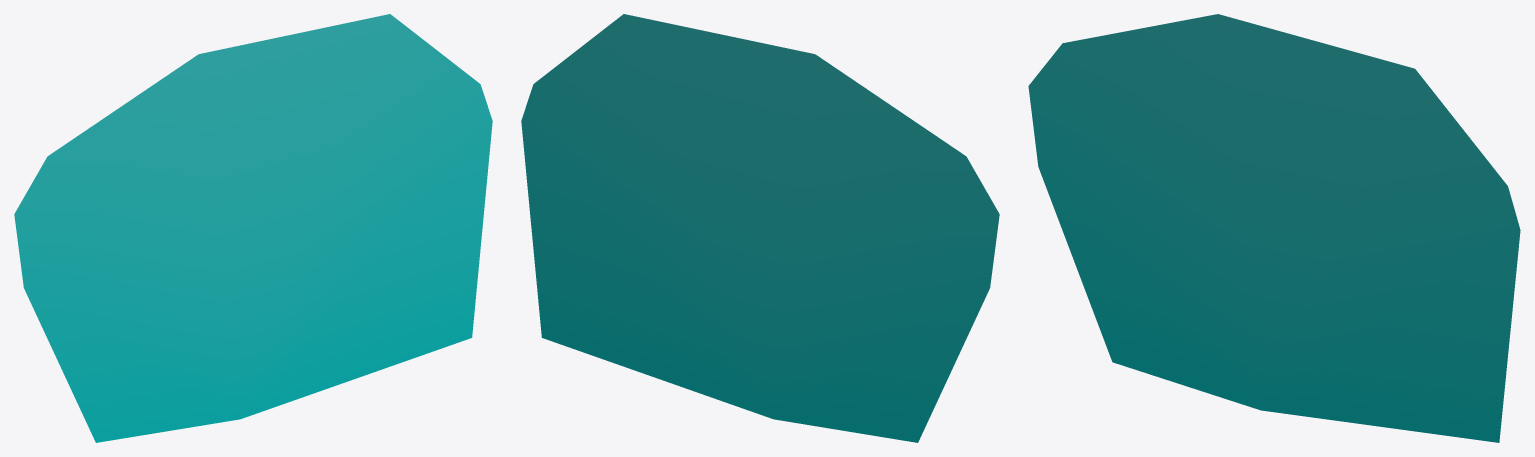
File: Bigleaf_Hydrangea_vgztealha_Mid_vgztealha_VarF_LOD3.fbx
3 renders of one model, left to right at view 1: azimuth 30°, elevation 25°; view 2: azimuth 150°, elevation 25°; view 3: azimuth 330°, elevation 25°, orthographic. The views are drawn at different scales.
Parts seen in each view (by area): view 1: _vc69_VarF_LOD5; view 2: _vc69_VarF_LOD5; view 3: _vc69_VarF_LOD5.
Part boxes in pixels (box(x1,y1,x2,y2)): _vc69_VarF_LOD5: box(14, 14, 492, 442); _vc69_VarF_LOD5: box(521, 14, 999, 442); _vc69_VarF_LOD5: box(1028, 14, 1520, 442).
Size of the model in its own units: 94.31 by 70.7 by 0.
